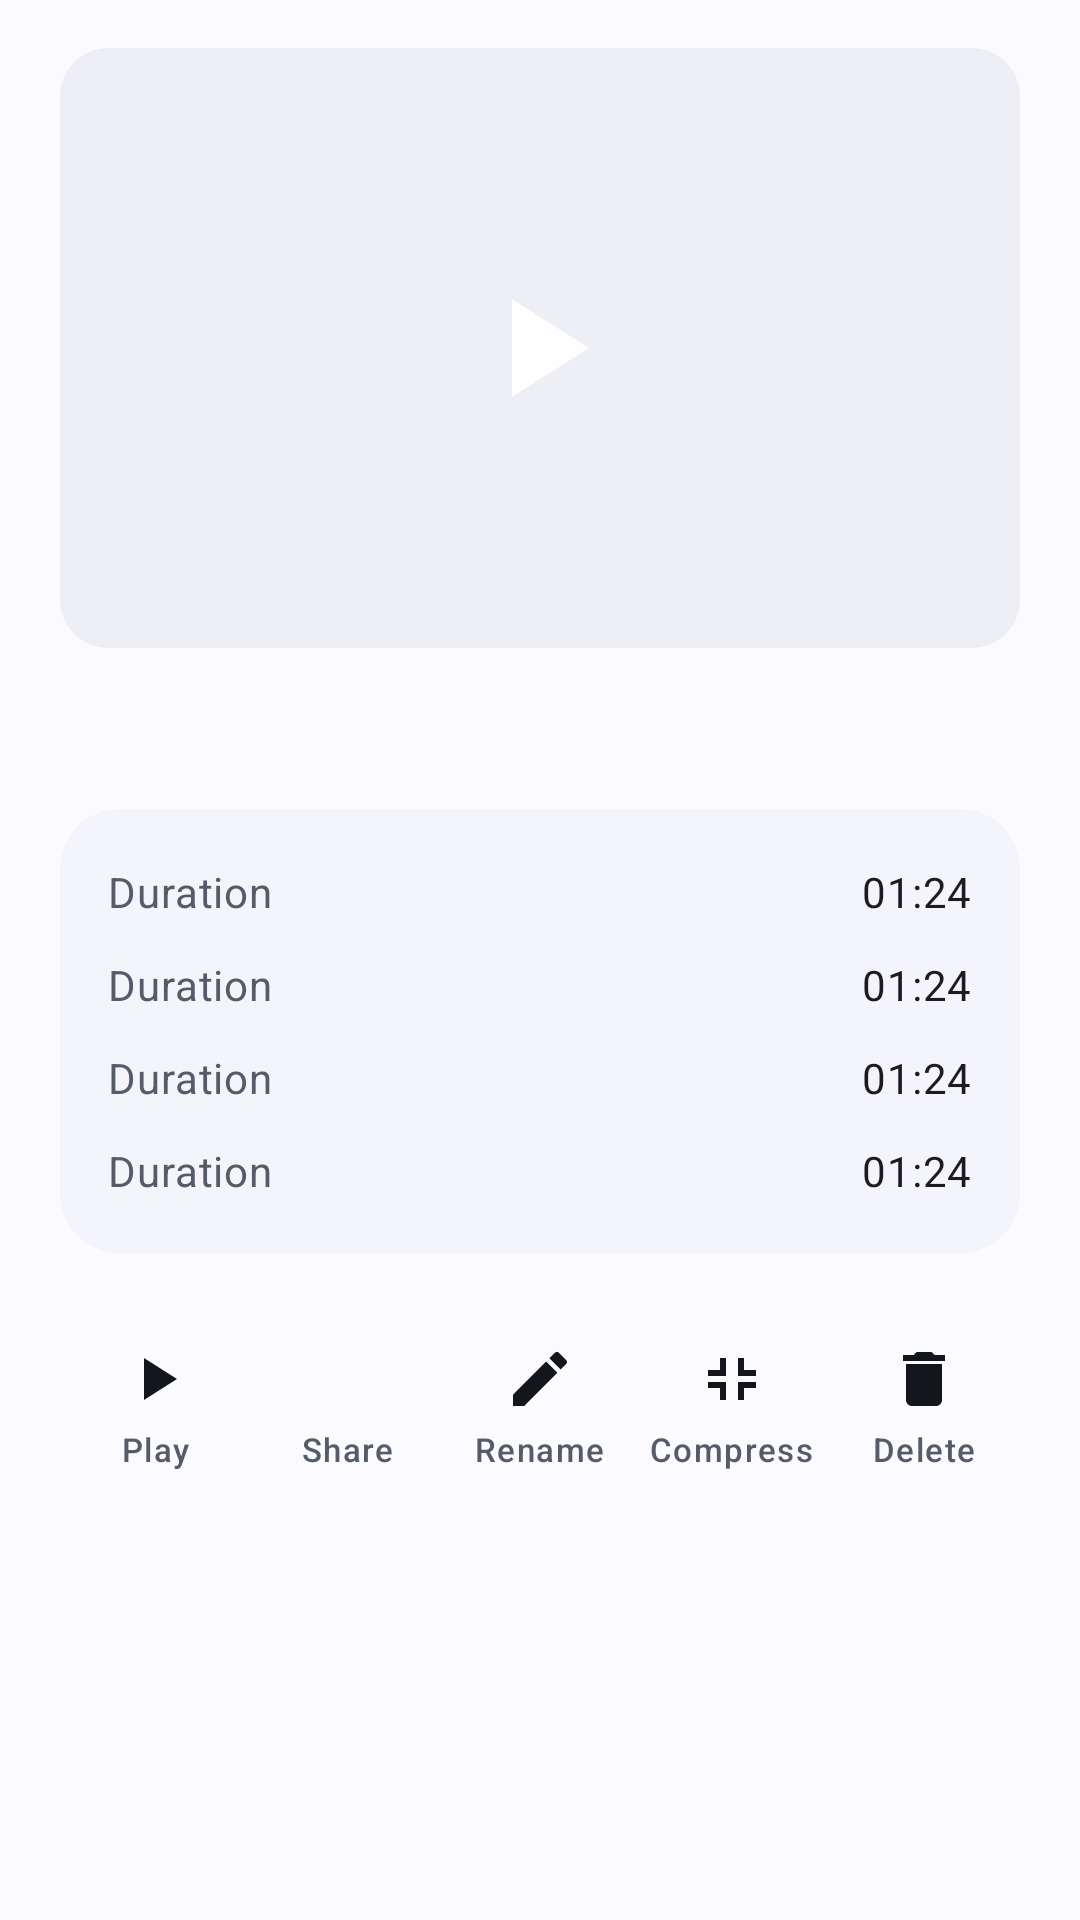

Screen size 1080x1920. Icon name, then its center in pixels as point (x, y):
edit: point (540, 1379)
